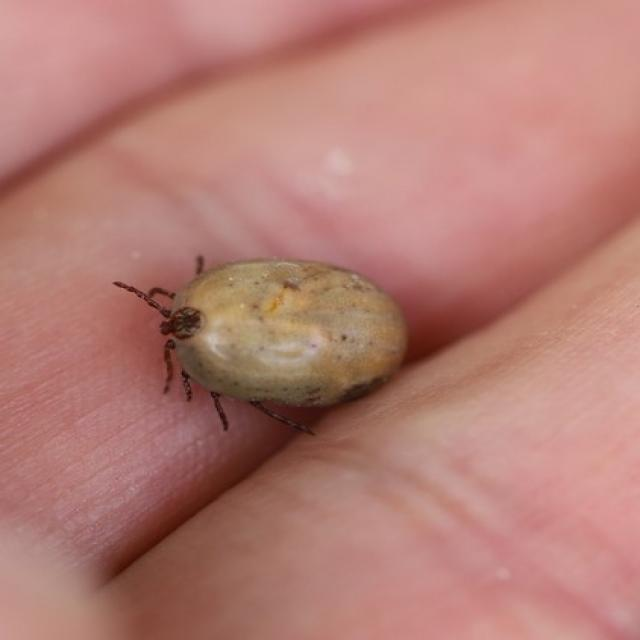Dermacentor Reticulatus-F-Fed: (111, 255, 408, 436)
